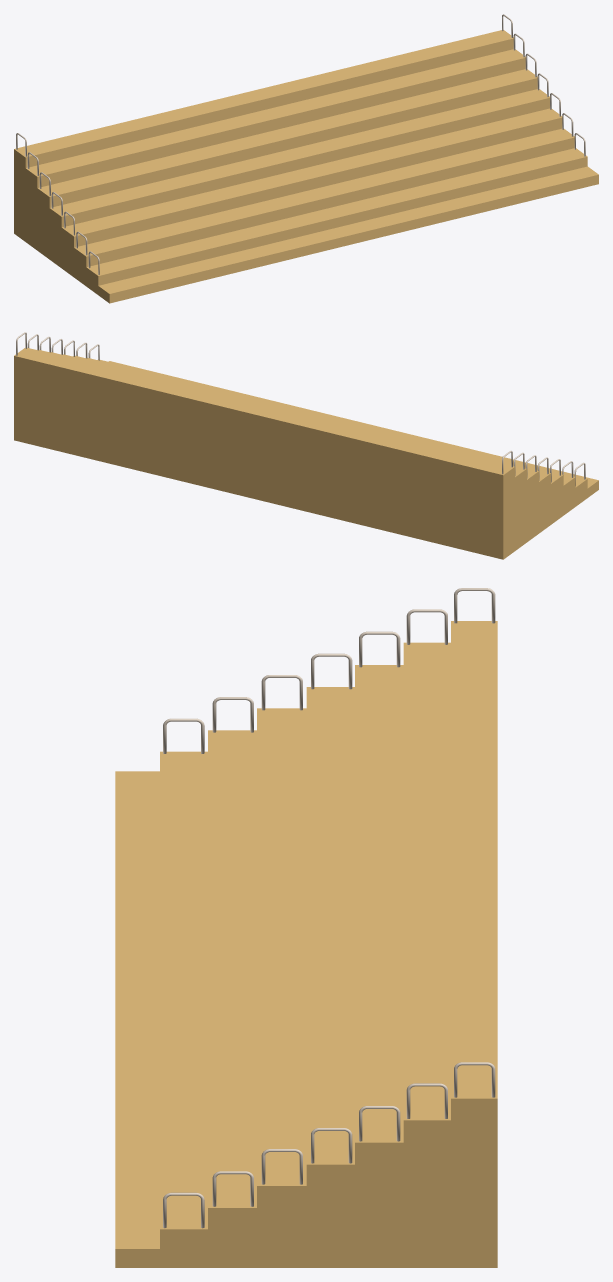
The model's file is Gradin.fbx.
The picture shows the model from 3 angles, top to bottom: view 1: azimuth 30°, elevation 25°; view 2: azimuth 150°, elevation 25°; view 3: azimuth 270°, elevation 25°; orthographic projection. The views are drawn at different scales.
Parts seen in each view (by area): view 1: Estrade; view 2: Estrade; view 3: Estrade.
Part boxes in pixels (x1=…): Estrade: x1=14, y1=14, x2=598, y2=303; Estrade: x1=14, y1=332, x2=598, y2=559; Estrade: x1=115, y1=588, x2=497, y2=1267.
Bounding box in the file's own units: 9897 × 1968 × 3348.
